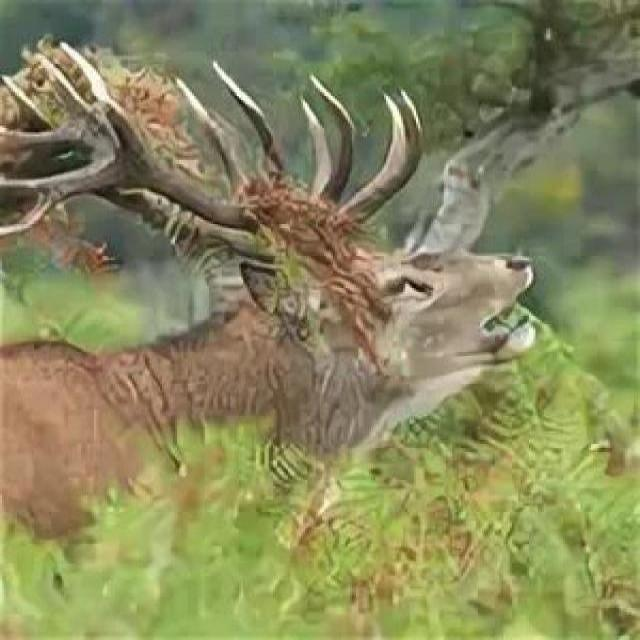deer: (0, 37, 603, 552)
